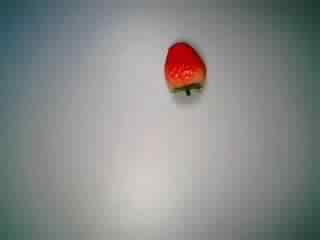strawberry: (151, 37, 217, 99)
